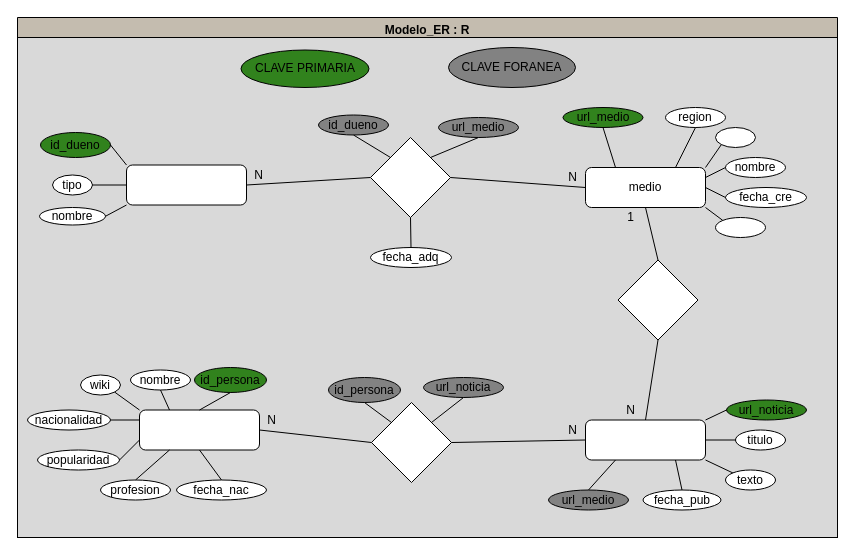
The diagram is 855 pixels wide and 555 high, and some of its shapes have lost their labels. The shapes that lost their labels are listed below. From the top down, each one's centre as x and y in pixels, then its label:
point (735, 137): pais
point (186, 184): dueno
point (410, 177): adquiere
point (740, 227): idioma
point (657, 299): publica
point (199, 429): persona
point (411, 442): menciona
point (645, 439): noticia
